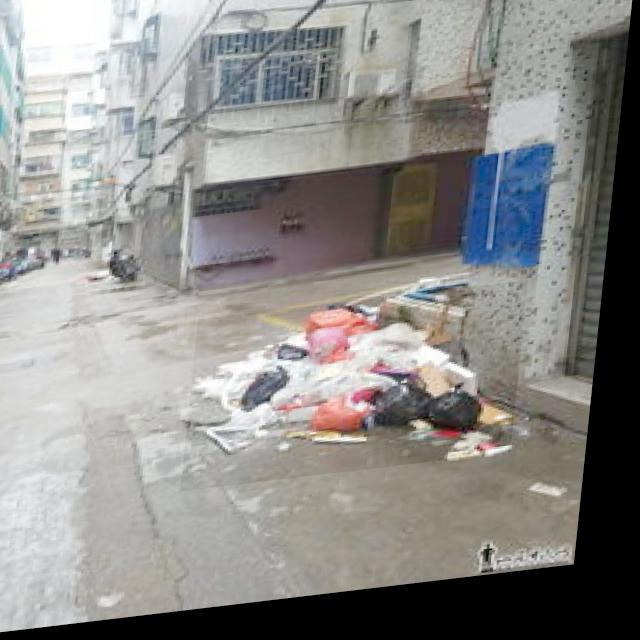garbage: (192, 294, 536, 497)
